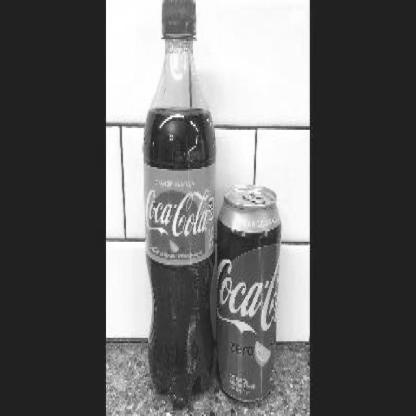alumunium_can: (216, 184, 282, 404)
plastic_bottles: (142, 1, 218, 408)
